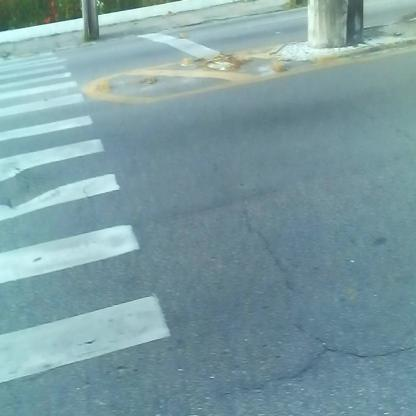crosswalk: (2, 54, 169, 369)
sidewalk: (3, 5, 307, 55)
